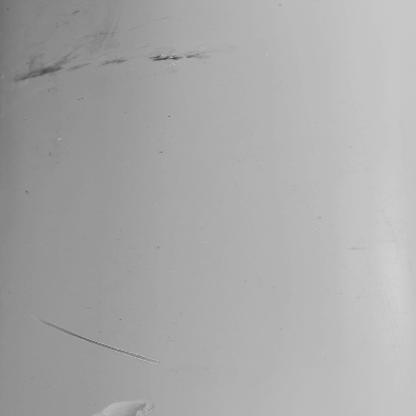sunshang: (32, 312, 160, 369), (95, 401, 149, 416)
